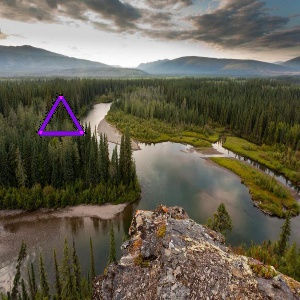triangle: (33, 91, 89, 139)
